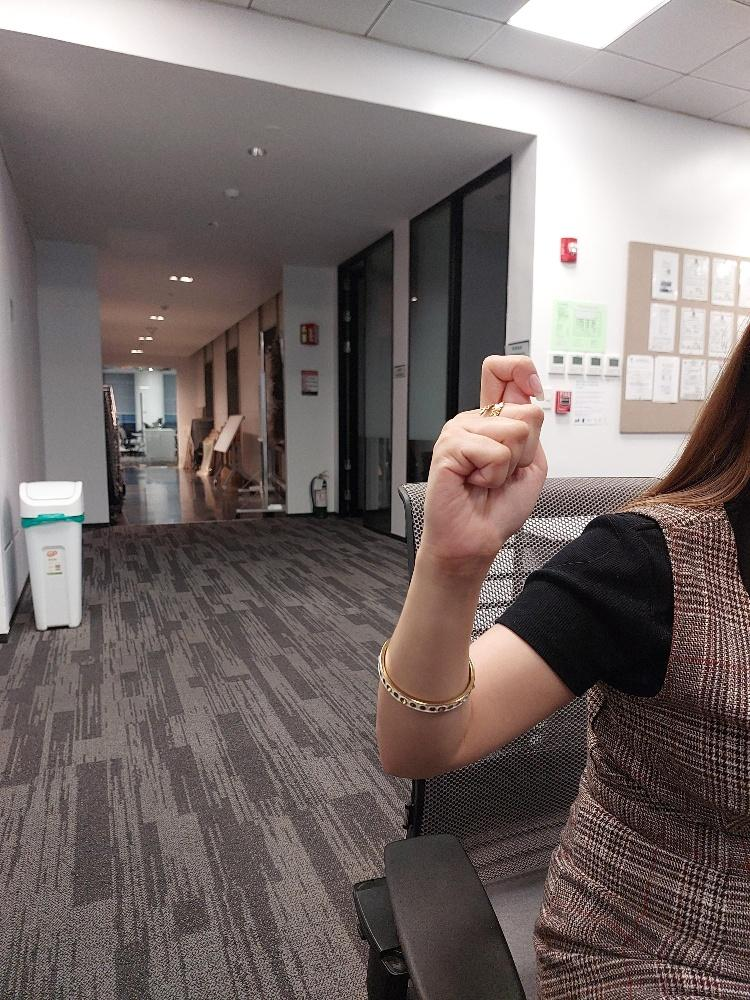t: (421, 350, 551, 566)
